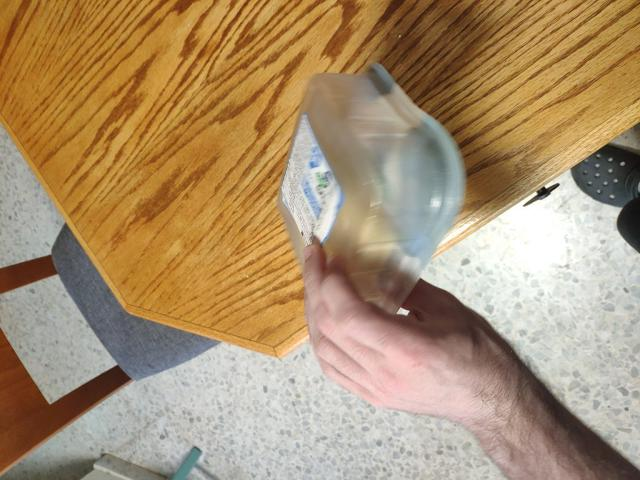cheese: (285, 78, 439, 351)
